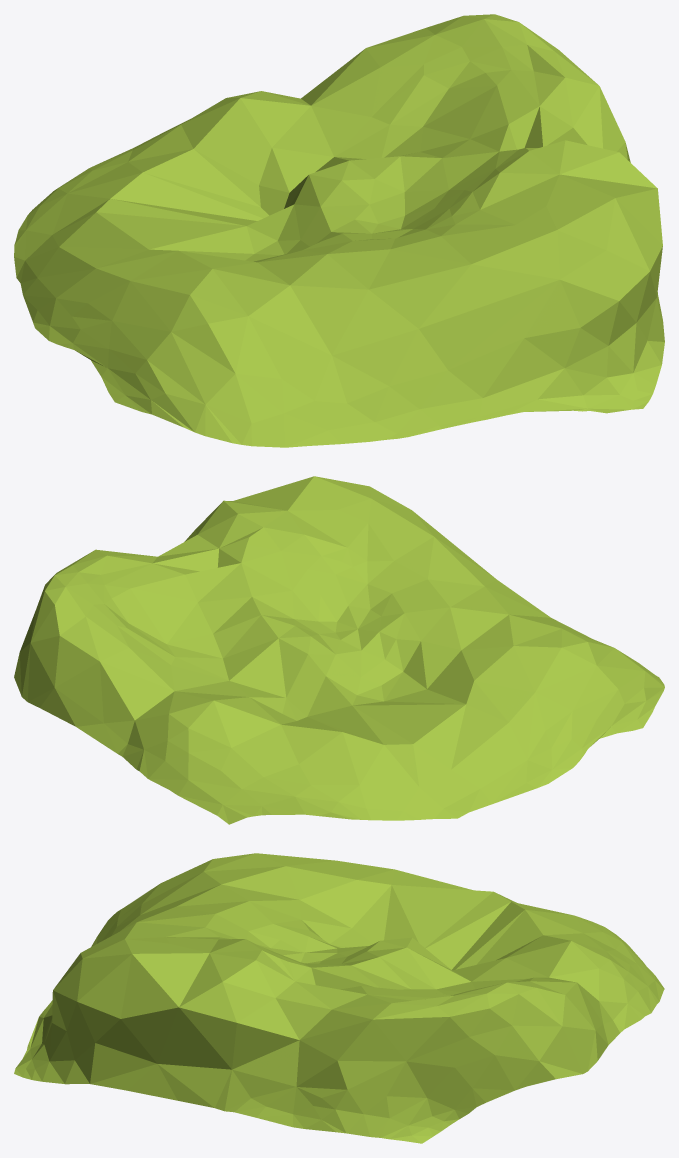
The model's file is hill_008.glb.
3 renders of one model, top to bottom at view 1: azimuth 30°, elevation 25°; view 2: azimuth 150°, elevation 25°; view 3: azimuth 270°, elevation 25°, orthographic. The views are drawn at different scales.
Visible parts, largest first — view 1: hill_008; view 2: hill_008; view 3: hill_008.
Part boxes in pixels (x1,y1,x2,y2): hill_008: [14, 14, 664, 447]; hill_008: [14, 476, 664, 824]; hill_008: [14, 853, 664, 1143].
Bounding box in the file's own units: 66.7 × 17.2 × 70.98.
1 material, 1 textured.
